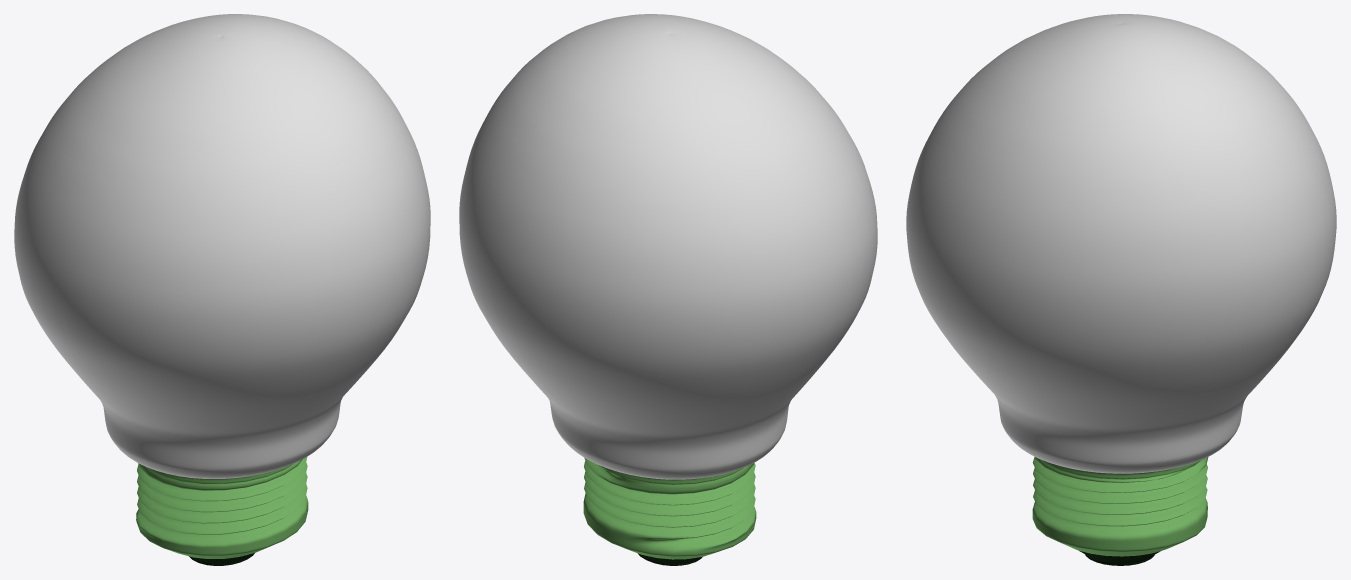
The model's file is Lightbulb.glb.
3 renders of one model, left to right at view 1: azimuth 30°, elevation 25°; view 2: azimuth 150°, elevation 25°; view 3: azimuth 270°, elevation 25°, orthographic. The views are drawn at different scales.
Visible parts, largest first — view 1: Lightbulb; view 2: Lightbulb; view 3: Lightbulb.
Part boxes in pixels (x1,y1,x2,y2): Lightbulb: (14, 14, 430, 565); Lightbulb: (459, 14, 877, 565); Lightbulb: (906, 14, 1336, 565).
Size of the model in its own units: 12.25 by 16.88 by 12.33.
Materials: 3 (1 with a texture image).
